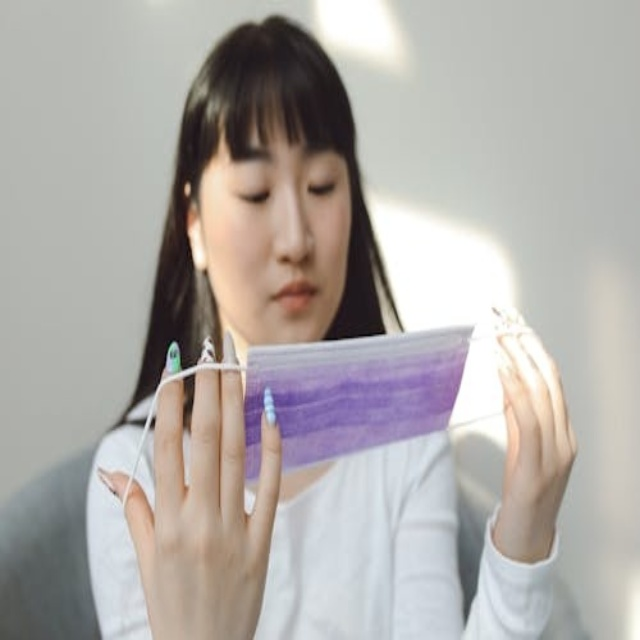Sin_gafas: (220, 150, 355, 213)
Sin_guantes: (115, 340, 285, 640), (484, 315, 578, 558)
Sin_mascara: (244, 269, 335, 319)
